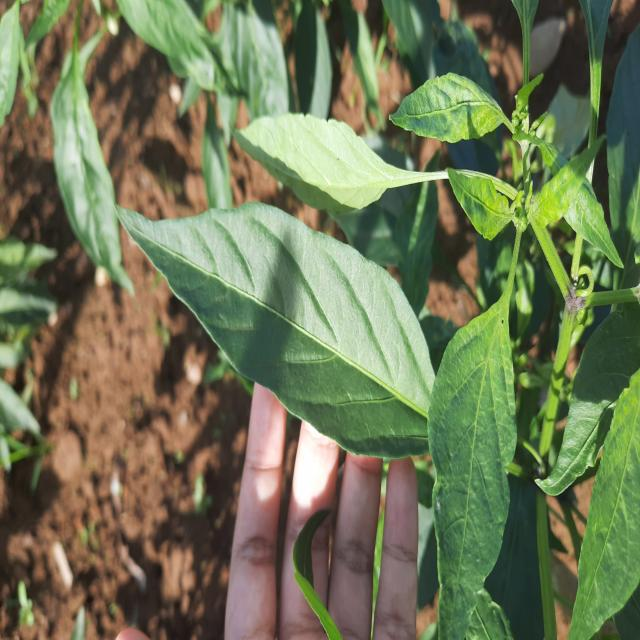thrips: (382, 67, 506, 161)
